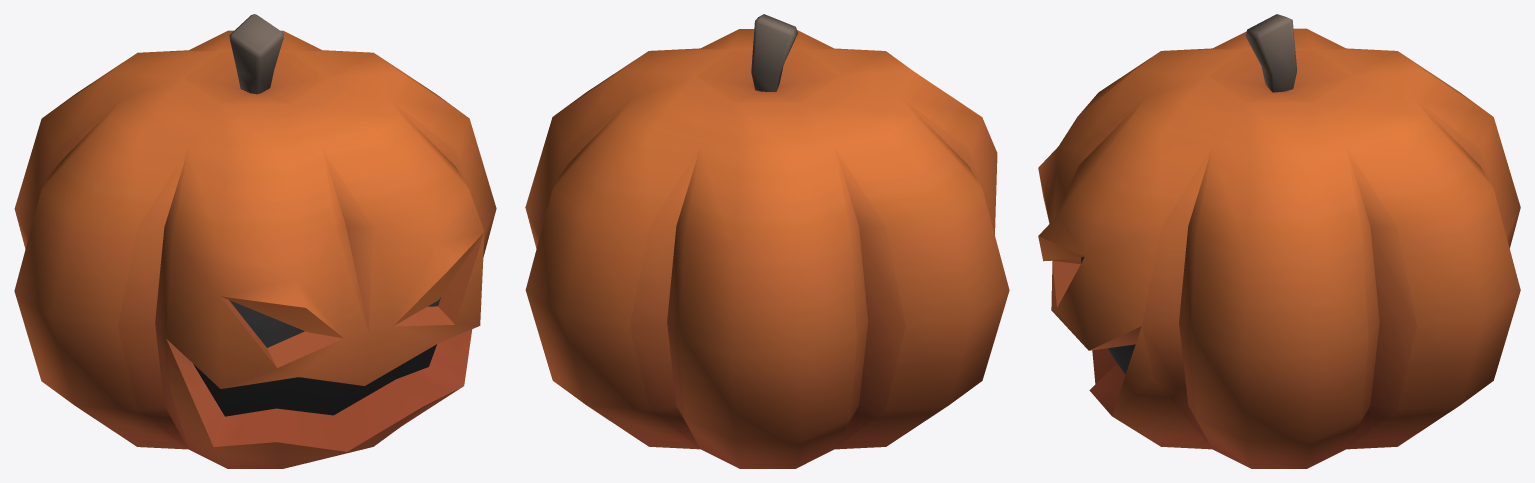
File: pumpkin_orange_jackolantern.glb
The picture shows the model from 3 angles, left to right: view 1: azimuth 30°, elevation 25°; view 2: azimuth 150°, elevation 25°; view 3: azimuth 270°, elevation 25°; orthographic projection.
Visible parts, largest first — view 1: pumpkin_orange_jackolantern; view 2: pumpkin_orange_jackolantern; view 3: pumpkin_orange_jackolantern.
Part boxes in pixels (<box>): pumpkin_orange_jackolantern: <box>14,14,496,468</box>; pumpkin_orange_jackolantern: <box>525,14,1009,468</box>; pumpkin_orange_jackolantern: <box>1038,14,1520,468</box>.
Size of the model in its own units: 1.5 by 1.3 by 1.4.
1 material, 1 textured.
